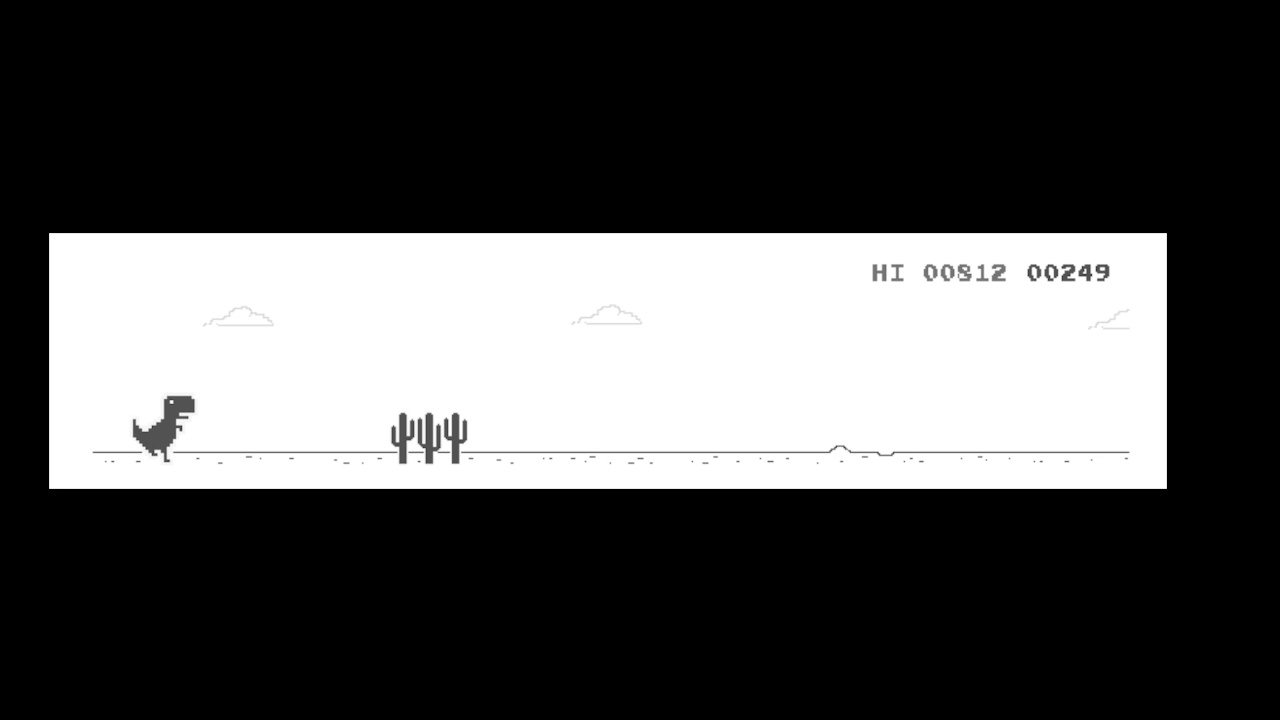bigthree: (385, 412, 471, 466)
dino: (130, 396, 198, 460)
